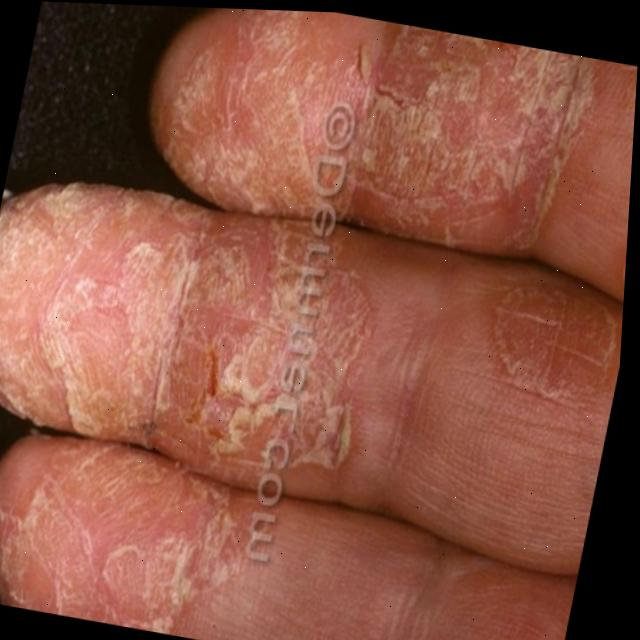Eczema: (0, 175, 379, 477), (192, 8, 567, 224), (7, 467, 231, 640)
